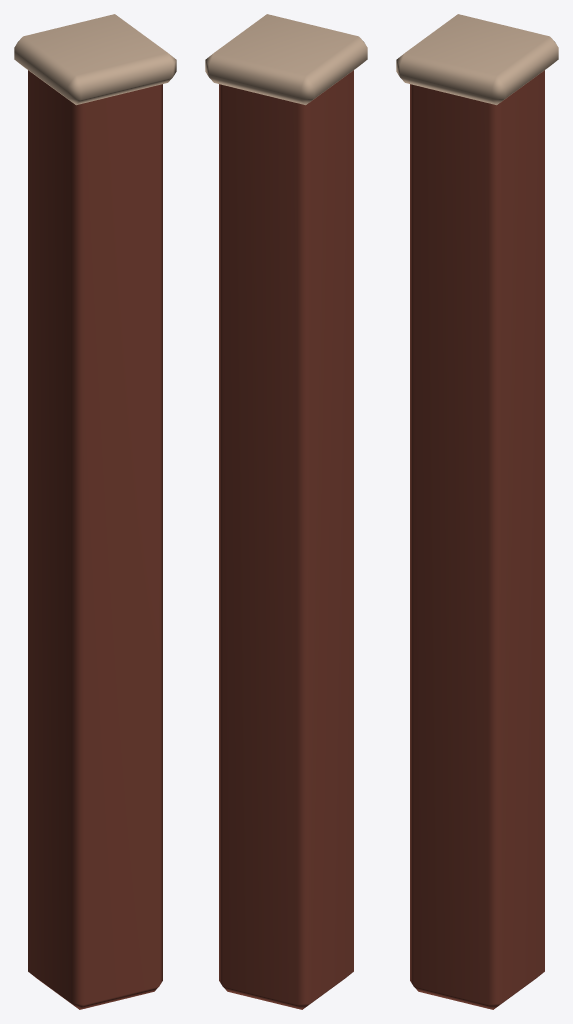
File: wall_pillar.glb
3 renders of one model, left to right at view 1: azimuth 30°, elevation 25°; view 2: azimuth 150°, elevation 25°; view 3: azimuth 330°, elevation 25°, orthographic.
Parts seen in each view (by area): view 1: wall_pillar; view 2: wall_pillar; view 3: wall_pillar.
Boxes of the visible parts, x1=… form: wall_pillar: x1=14, y1=14, x2=176, y2=1009; wall_pillar: x1=205, y1=14, x2=367, y2=1009; wall_pillar: x1=396, y1=14, x2=558, y2=1009.
Size of the model in its own units: 0.38 by 3.13 by 0.38.
